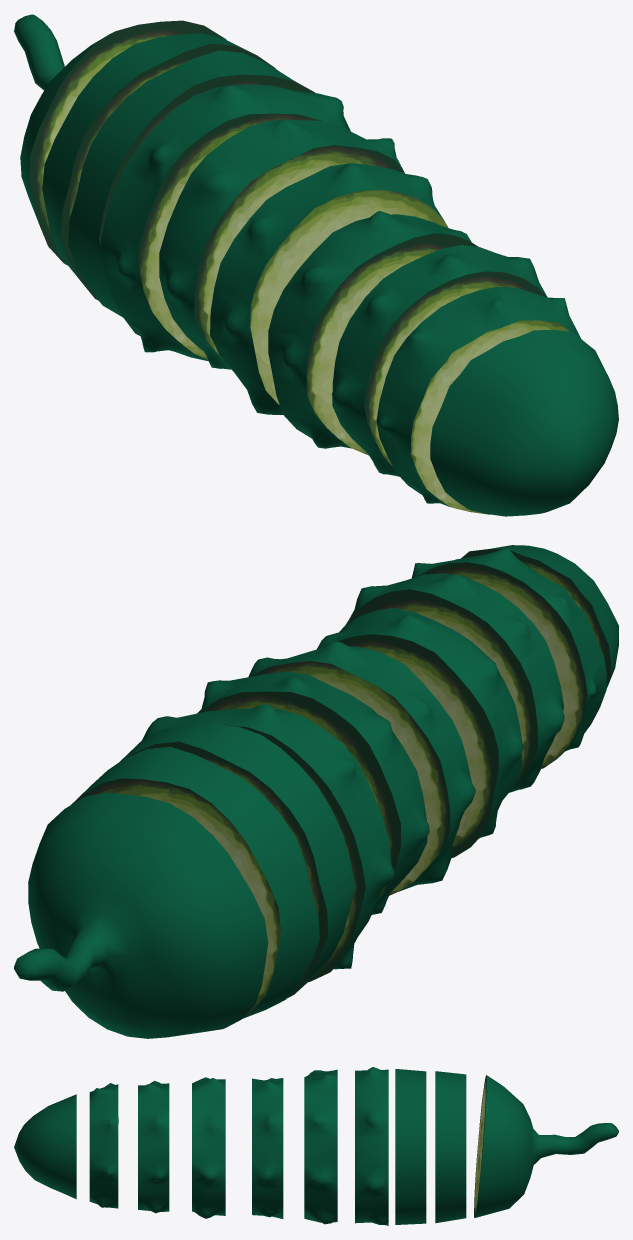
The model's file is cucumber_sliced.FBX.
3 renders of one model, top to bottom at view 1: azimuth 30°, elevation 25°; view 2: azimuth 150°, elevation 25°; view 3: azimuth 270°, elevation 25°, orthographic. The views are drawn at different scales.
Visible parts, largest first — view 1: cucumber_s9, cucumber_s3, cucumber_s5, cucumber_s4, cucumber_s6, cucumber_s8, cucumber_s7, cucumber_s2, cucumber_s1, cucumber_s0; view 2: cucumber_s0, cucumber_s1, cucumber_s6, cucumber_s5, cucumber_s7, cucumber_s2, cucumber_s4, cucumber_s3, cucumber_s8, cucumber_s9; view 3: cucumber_s0, cucumber_s3, cucumber_s4, cucumber_s2, cucumber_s1, cucumber_s6, cucumber_s9, cucumber_s5, cucumber_s7, cucumber_s8.
Part boxes in pixels (left/top/right/bottom): cucumber_s9: left=430, top=330, right=618, bottom=516; cucumber_s3: left=100, top=84, right=350, bottom=361; cucumber_s5: left=210, top=163, right=448, bottom=414; cucumber_s4: left=159, top=119, right=404, bottom=369; cucumber_s6: left=268, top=211, right=478, bottom=455; cucumber_s8: left=376, top=287, right=580, bottom=514; cucumber_s7: left=332, top=245, right=547, bottom=476; cucumber_s2: left=68, top=50, right=314, bottom=317; cucumber_s1: left=42, top=33, right=276, bottom=300; cucumber_s0: left=14, top=14, right=226, bottom=265; cucumber_s0: left=14, top=792, right=268, bottom=1038; cucumber_s1: left=71, top=746, right=319, bottom=1018; cucumber_s6: left=317, top=608, right=523, bottom=857; cucumber_s5: left=248, top=641, right=475, bottom=895; cucumber_s7: left=346, top=573, right=564, bottom=792; cucumber_s2: left=120, top=723, right=354, bottom=998; cucumber_s4: left=197, top=671, right=429, bottom=914; cucumber_s3: left=142, top=704, right=394, bottom=982; cucumber_s8: left=412, top=548, right=606, bottom=768; cucumber_s9: left=461, top=545, right=618, bottom=688; cucumber_s0: left=474, top=1075, right=618, bottom=1217; cucumber_s3: left=355, top=1067, right=388, bottom=1225; cucumber_s4: left=304, top=1069, right=337, bottom=1224; cucumber_s2: left=395, top=1069, right=426, bottom=1224; cucumber_s1: left=435, top=1071, right=466, bottom=1223; cucumber_s6: left=192, top=1077, right=225, bottom=1218; cucumber_s9: left=14, top=1094, right=76, bottom=1199; cucumber_s5: left=252, top=1078, right=283, bottom=1218; cucumber_s7: left=138, top=1080, right=169, bottom=1213; cucumber_s8: left=89, top=1083, right=118, bottom=1208.
Bounding box in the file's own units: 5.43 × 5.43 × 19.44.
Materials: 2 (1 with a texture image).
